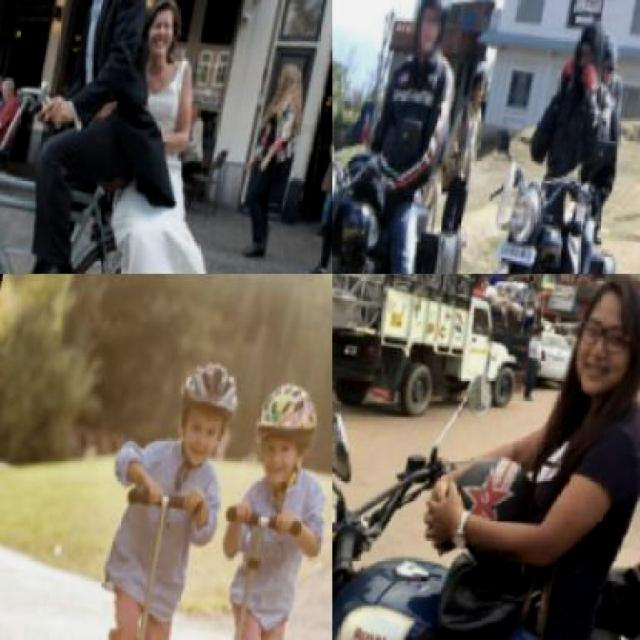With Helmet: (238, 363, 331, 491), (165, 350, 248, 475), (403, 0, 460, 63)
Without Helmet: (558, 274, 638, 408), (566, 6, 612, 92)
